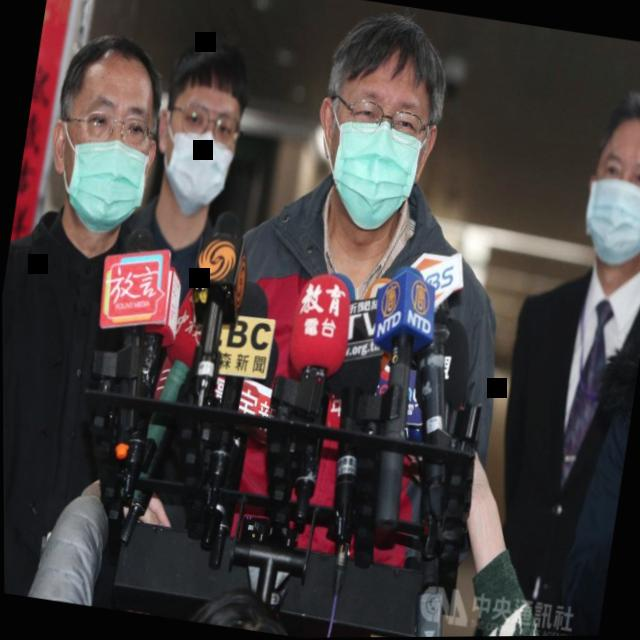Mask: (295, 0, 465, 248), (31, 22, 179, 252), (140, 16, 262, 226), (558, 73, 640, 281)
